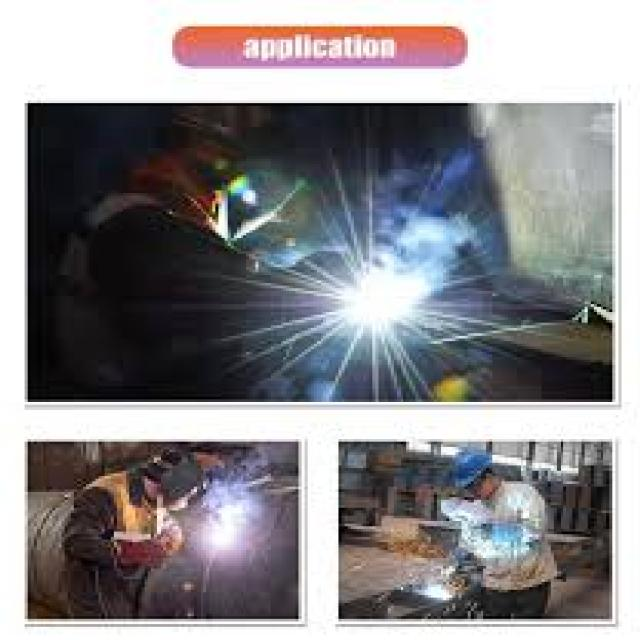welding: (345, 272, 434, 325), (212, 512, 248, 552), (431, 580, 465, 602)
